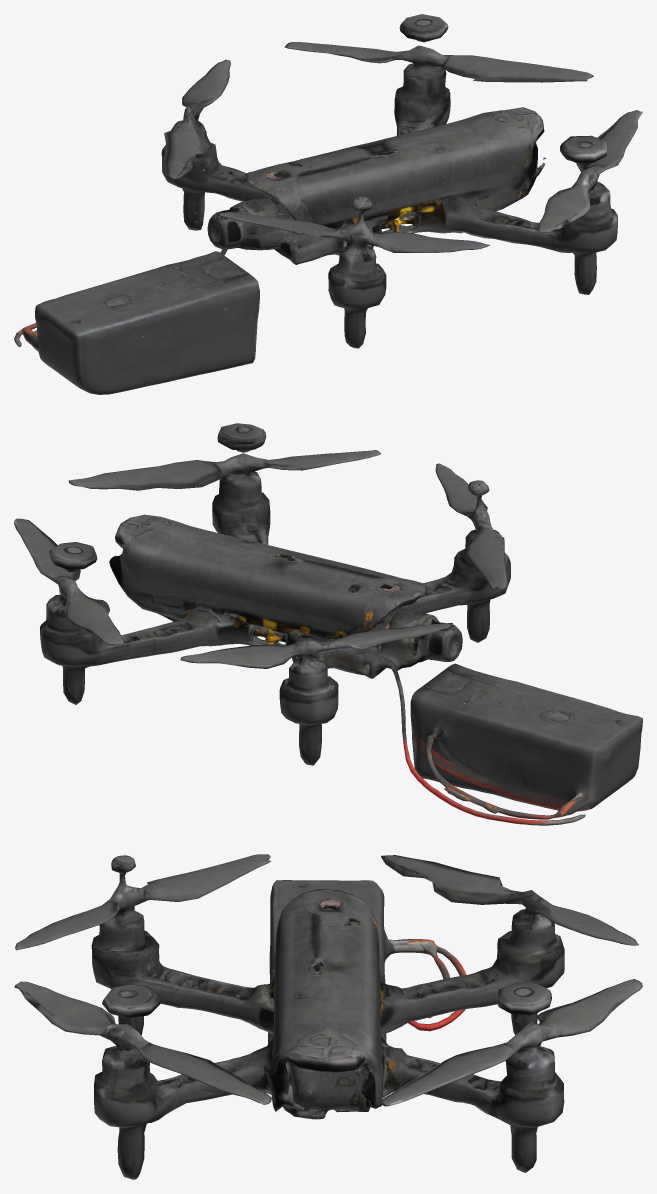
The model's file is meshy_tail_fiber_fpv.glb.
3 views of the same model, one above another, from view 1: azimuth 30°, elevation 25°; view 2: azimuth 150°, elevation 25°; view 3: azimuth 270°, elevation 25° (orthographic). The views are drawn at different scales.
Parts seen in each view (by area): view 1: Mesh1_Mesh1.033; view 2: Mesh1_Mesh1.033; view 3: Mesh1_Mesh1.033.
Boxes of the visible parts, x1,y1,x2,y2 form: Mesh1_Mesh1.033: [14, 14, 642, 394]; Mesh1_Mesh1.033: [14, 423, 642, 825]; Mesh1_Mesh1.033: [14, 854, 642, 1179].
Bounding box in the file's own units: 1.97 × 0.6596 × 1.56.
Materials: 1 (1 with a texture image).
